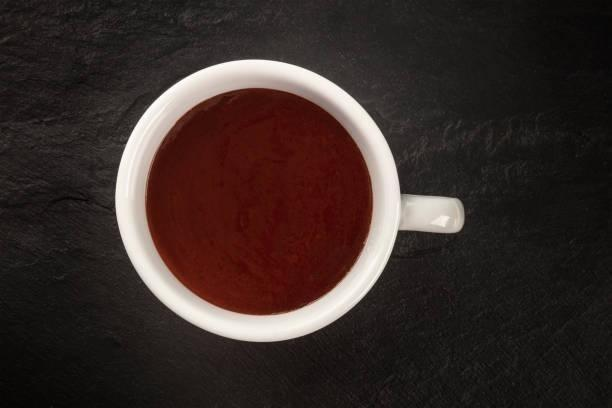cup-handle: (114, 57, 466, 344)
